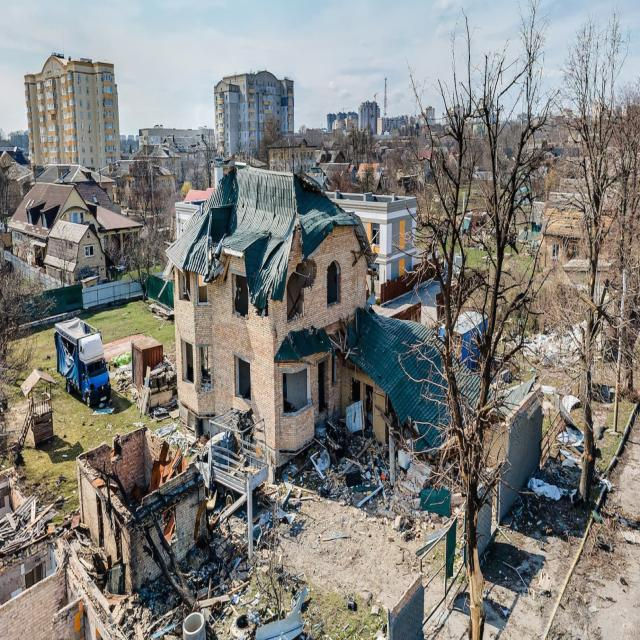broken_window: (281, 366, 310, 416), (234, 352, 251, 401), (232, 272, 249, 318), (326, 260, 341, 306), (181, 338, 194, 383)
building: (162, 162, 378, 471), (5, 163, 143, 289), (24, 52, 120, 177), (213, 69, 294, 162)
damaged_roof: (162, 162, 374, 312)
roof: (344, 303, 534, 458)
